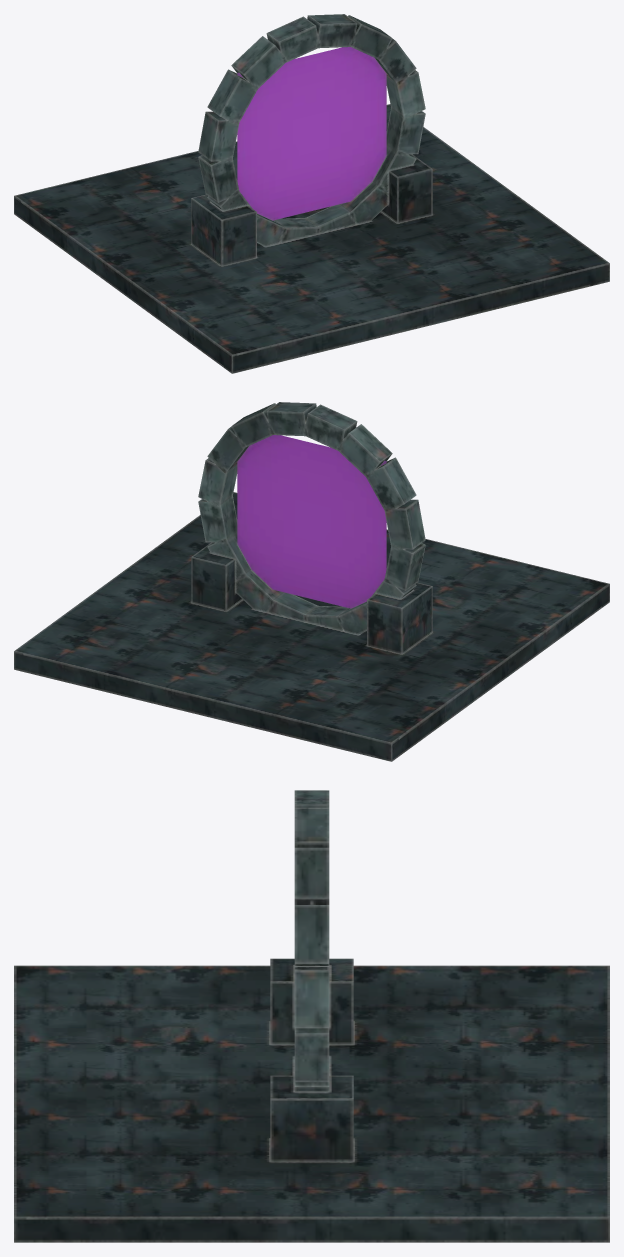
File: wormhole_module.glb
3 renders of one model, top to bottom at view 1: azimuth 30°, elevation 25°; view 2: azimuth 150°, elevation 25°; view 3: azimuth 270°, elevation 25°, orthographic. The views are drawn at different scales.
Visible parts, largest first — view 1: te_wormhole_module; view 2: te_wormhole_module; view 3: te_wormhole_module.
Boxes of the visible parts, x1,y1,x2,y2 form: te_wormhole_module: (14,14,609,373); te_wormhole_module: (14,402,609,761); te_wormhole_module: (14,790,609,1242).
Size of the model in its own units: 1.72 by 0.989 by 1.72.
Materials: 1 (1 with a texture image).
